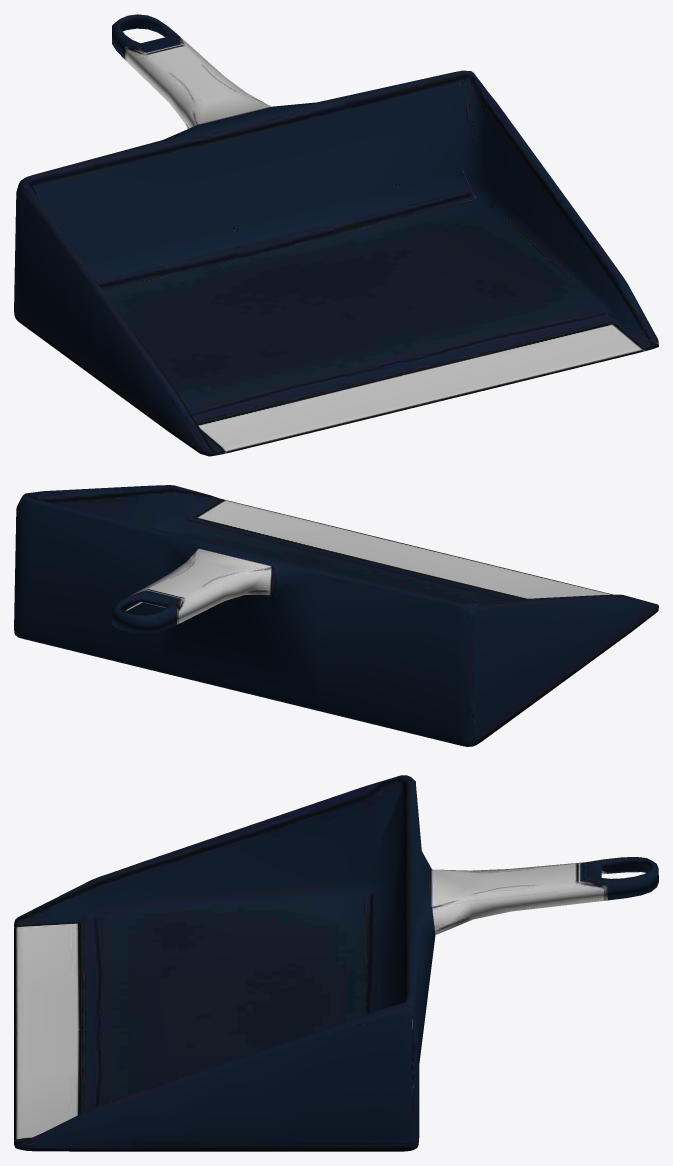
Rendered from dustpan_d91eae20_visual.obj.
3 renders of one model, top to bottom at view 1: azimuth 30°, elevation 25°; view 2: azimuth 150°, elevation 25°; view 3: azimuth 270°, elevation 25°, orthographic. The views are drawn at different scales.
Size of the model in its own units: 0.2957 by 0.1 by 0.3421.
Materials: 1 (1 with a texture image).
